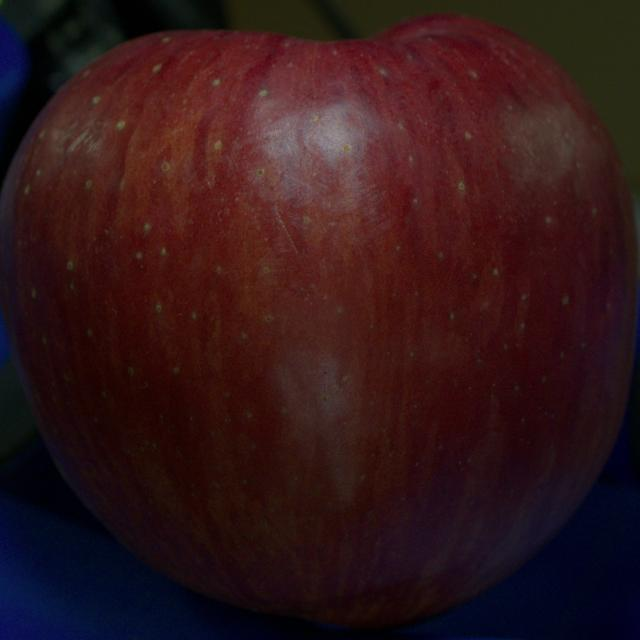apple: (0, 18, 636, 627)
